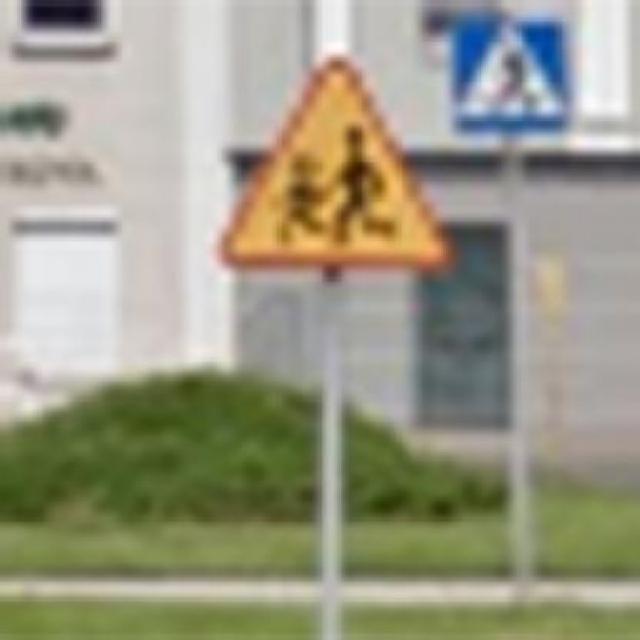Dzieci: (215, 52, 456, 271)
Przejscie dla pieszych: (447, 16, 581, 133)
